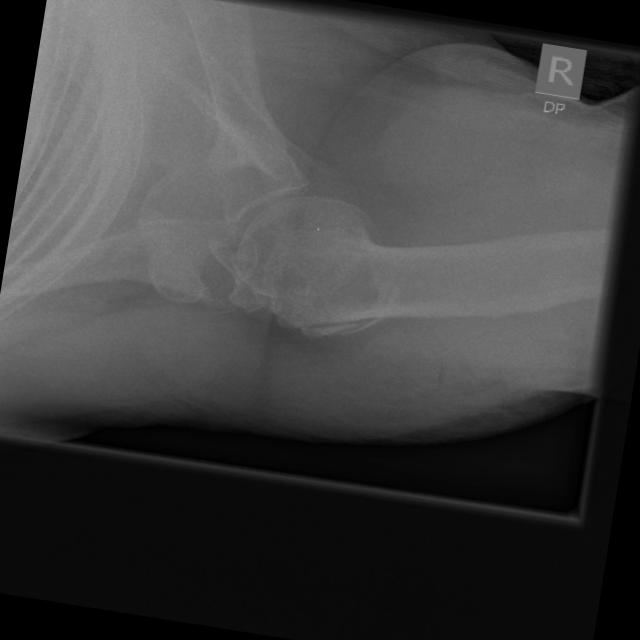shoulder fracture: (284, 293, 396, 358)
